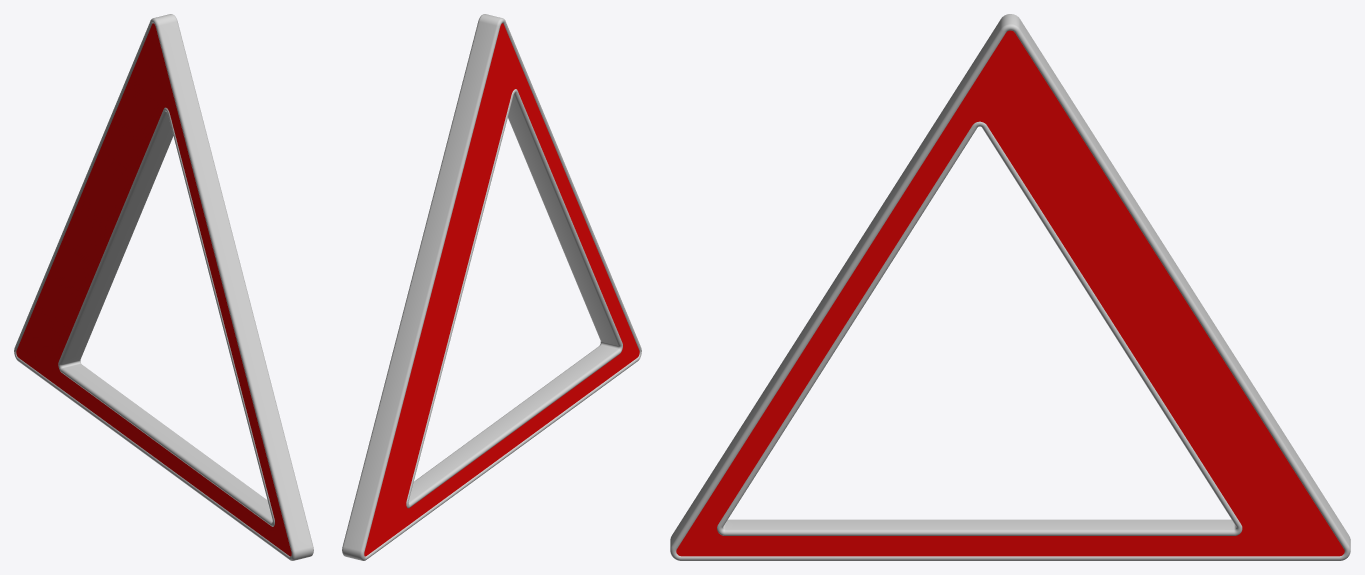
File: triangle.glb
3 renders of one model, left to right at view 1: azimuth 30°, elevation 25°; view 2: azimuth 150°, elevation 25°; view 3: azimuth 270°, elevation 25°, orthographic. The views are drawn at different scales.
Parts seen in each view (by area): view 1: kolmio; view 2: kolmio; view 3: kolmio.
Boxes of the visible parts, box(x1,y1,x2,y2) form: kolmio: box(14, 14, 313, 560); kolmio: box(342, 14, 641, 560); kolmio: box(670, 14, 1350, 560).
Bounding box in the file's own units: 0.26 × 5.12 × 5.88.
